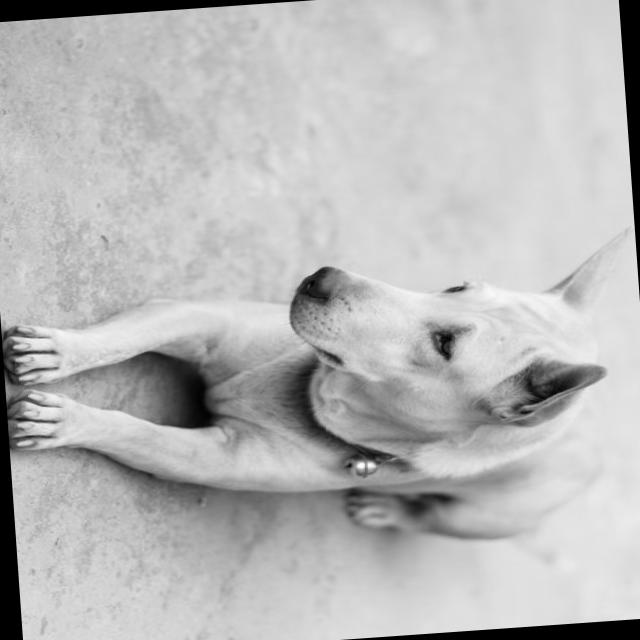laying down: (0, 209, 640, 605)
